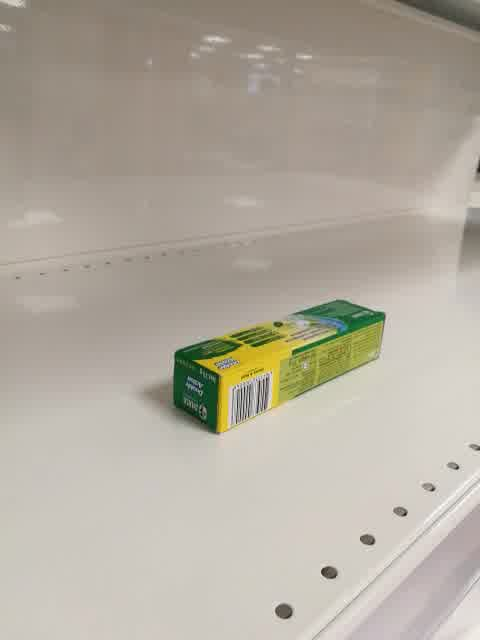toothpaste: (172, 299, 388, 436)
